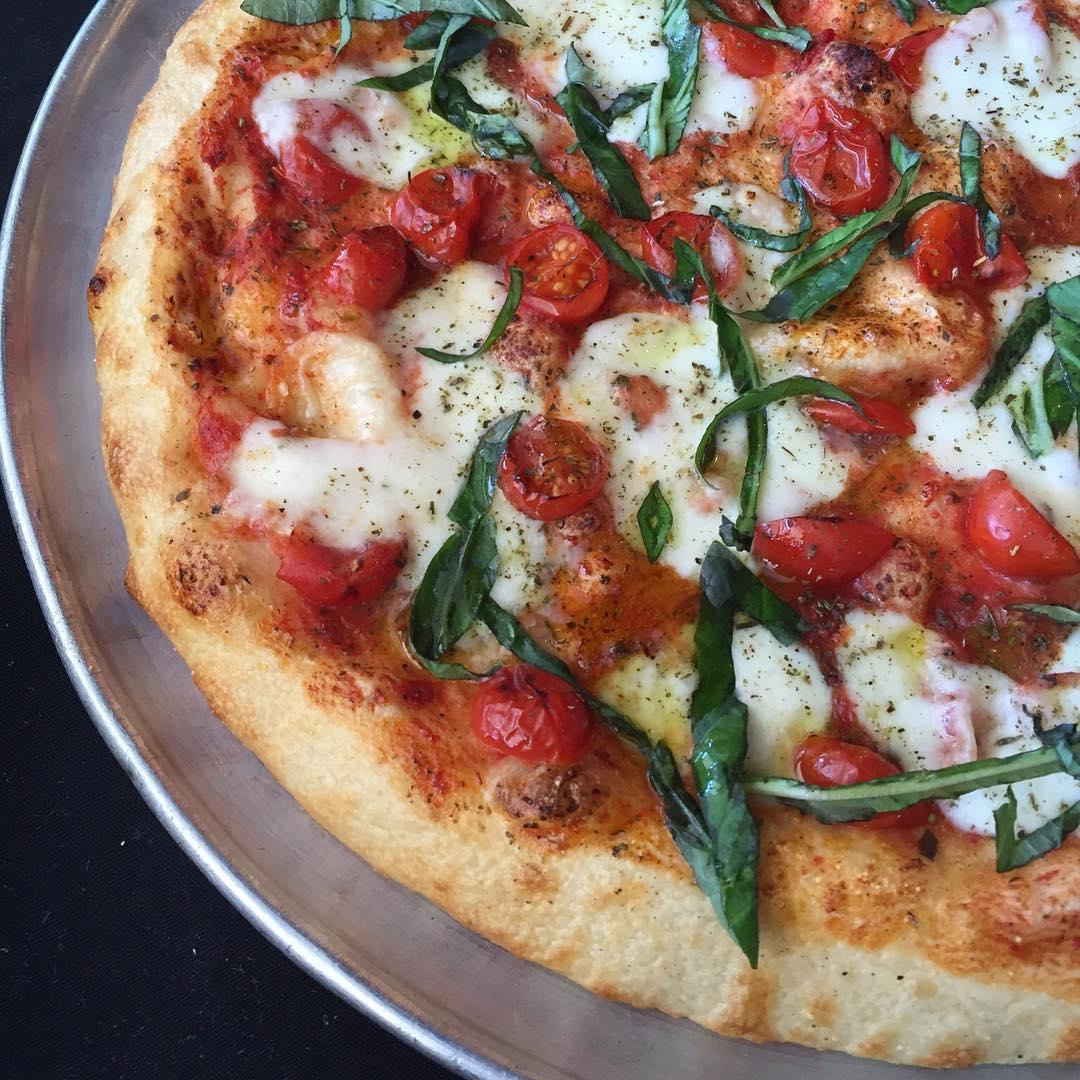Basil: (762, 153, 929, 329), (402, 416, 511, 684), (403, 34, 536, 161), (561, 42, 650, 218), (702, 292, 762, 545), (689, 373, 854, 460), (993, 283, 1080, 436), (650, 0, 709, 175), (238, 0, 531, 33), (957, 121, 1003, 258), (638, 476, 676, 563)
Pizza: (91, 0, 1080, 1080)
Tomatoes: (518, 502, 687, 655), (786, 89, 888, 218), (278, 509, 406, 610), (962, 469, 1080, 577), (481, 664, 598, 765), (798, 733, 923, 820), (909, 202, 1035, 281), (391, 167, 491, 263), (506, 220, 602, 319), (508, 417, 611, 504), (277, 96, 365, 195), (644, 206, 743, 293), (761, 505, 880, 572), (801, 383, 915, 438), (334, 230, 397, 300)
